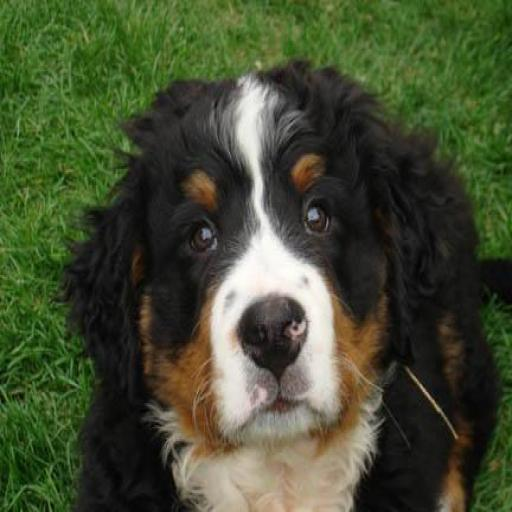dog_face: (84, 88, 433, 445)
